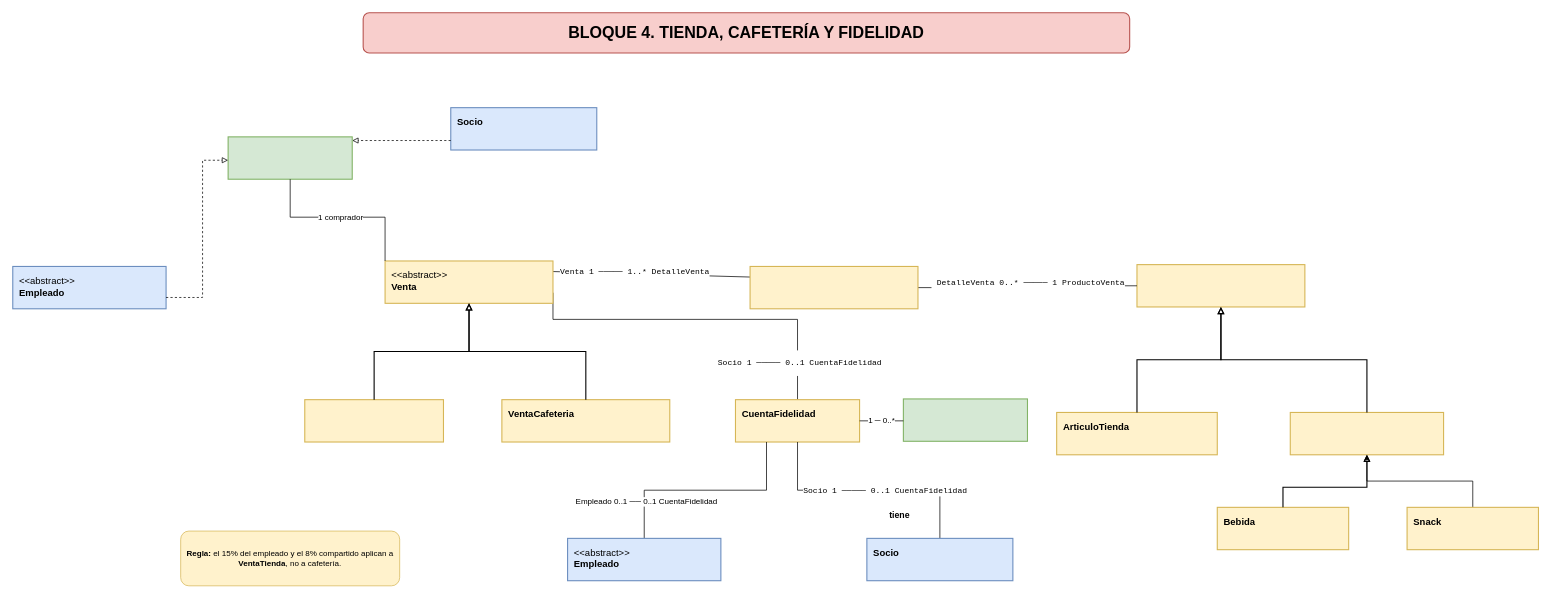
Image size: 1552x599. Some labels were removed from this diagram. Each missing label, with the centre of its shape:
"<<abstract>> ProductoCafeteria" goes at (1366,433).
"<<abstract>> ProductoVenta" goes at (1220,285).
"<<interface>> Comprador" goes at (289,157).
"DetalleVenta" goes at (833,287).
"MovimientoPuntos" goes at (965,420).
"VentaTienda" goes at (374,420).
